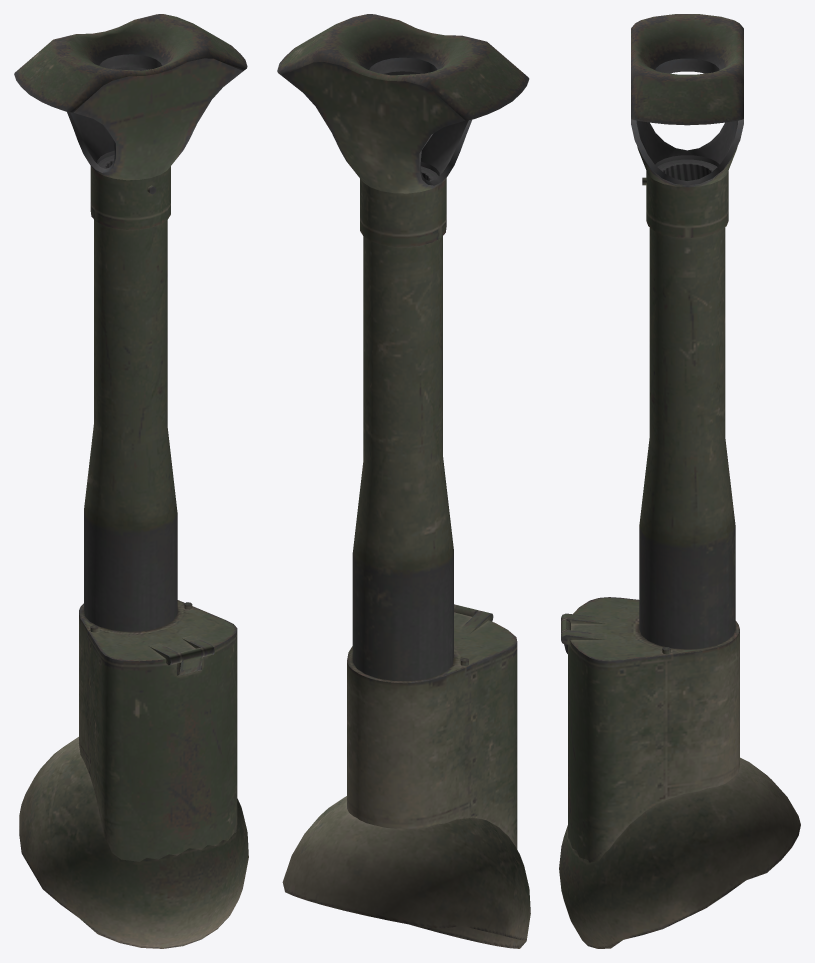
The model's file is Gun_02.glb.
3 renders of one model, left to right at view 1: azimuth 30°, elevation 25°; view 2: azimuth 150°, elevation 25°; view 3: azimuth 270°, elevation 25°, orthographic. The views are drawn at different scales.
Visible parts, largest first — view 1: set_0_group_0; view 2: set_0_group_0; view 3: set_0_group_0.
Boxes of the visible parts, box(x1,y1,x2,y2) form: set_0_group_0: box(14, 14, 248, 948); set_0_group_0: box(277, 14, 530, 948); set_0_group_0: box(559, 14, 800, 948).
Size of the model in its own units: 0.4958 by 2.02 by 0.5023.
1 material, 1 textured.
